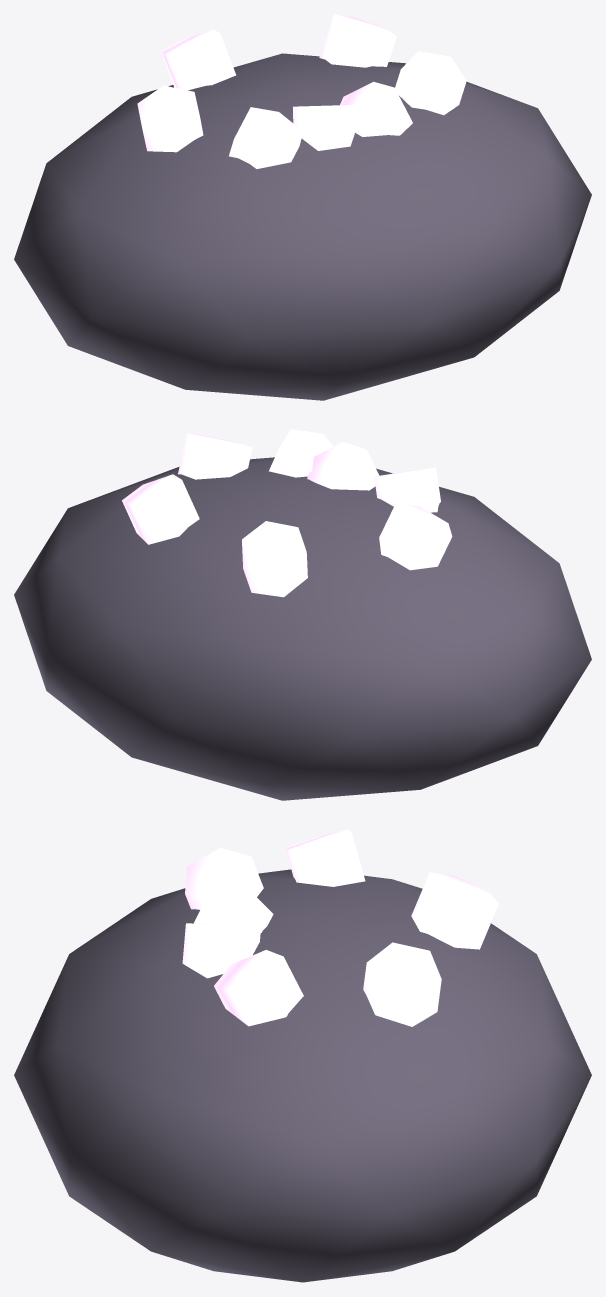
Rendered from prop_astral_star_geode_shrine.glb.
The picture shows the model from 3 angles, top to bottom: view 1: azimuth 30°, elevation 25°; view 2: azimuth 150°, elevation 25°; view 3: azimuth 270°, elevation 25°; orthographic projection. The views are drawn at different scales.
Parts seen in each view (by area): view 1: Meteorite_Crater_Husk, Astral_Crystal_4, Astral_Crystal_1, Astral_Crystal_5, Astral_Crystal_3, Astral_Crystal_2, Astral_Crystal_7, Astral_Crystal_6; view 2: Meteorite_Crater_Husk, Astral_Crystal_3, Astral_Crystal_4, Astral_Crystal_2, Astral_Crystal_1, Astral_Crystal_6, Astral_Crystal_5, Astral_Crystal_7; view 3: Meteorite_Crater_Husk, Astral_Crystal_2, Astral_Crystal_3, Astral_Crystal_1, Astral_Crystal_4, Astral_Crystal_7, Astral_Crystal_5, Astral_Crystal_6.
Part boxes in pixels (x1,y1,x2,y2): Meteorite_Crater_Husk: (14, 53, 591, 400); Astral_Crystal_4: (137, 85, 203, 152); Astral_Crystal_1: (395, 51, 466, 115); Astral_Crystal_5: (229, 107, 303, 168); Astral_Crystal_3: (160, 30, 235, 90); Astral_Crystal_2: (319, 14, 396, 67); Astral_Crystal_7: (340, 81, 412, 136); Astral_Crystal_6: (293, 104, 357, 150); Meteorite_Crater_Husk: (14, 457, 591, 800); Astral_Crystal_3: (242, 521, 307, 597); Astral_Crystal_4: (379, 503, 452, 570); Astral_Crystal_2: (122, 474, 199, 544); Astral_Crystal_1: (178, 433, 252, 479); Astral_Crystal_6: (307, 442, 379, 490); Astral_Crystal_5: (374, 467, 440, 512); Astral_Crystal_7: (269, 429, 333, 477); Meteorite_Crater_Husk: (14, 869, 591, 1282); Astral_Crystal_2: (363, 942, 441, 1026); Astral_Crystal_3: (411, 872, 498, 949); Astral_Crystal_1: (214, 950, 303, 1026); Astral_Crystal_4: (285, 829, 365, 886); Astral_Crystal_7: (182, 923, 260, 978); Astral_Crystal_5: (185, 847, 263, 909); Astral_Crystal_6: (193, 883, 273, 932).
Size of the model in its own units: 10.27 by 5.77 by 9.
